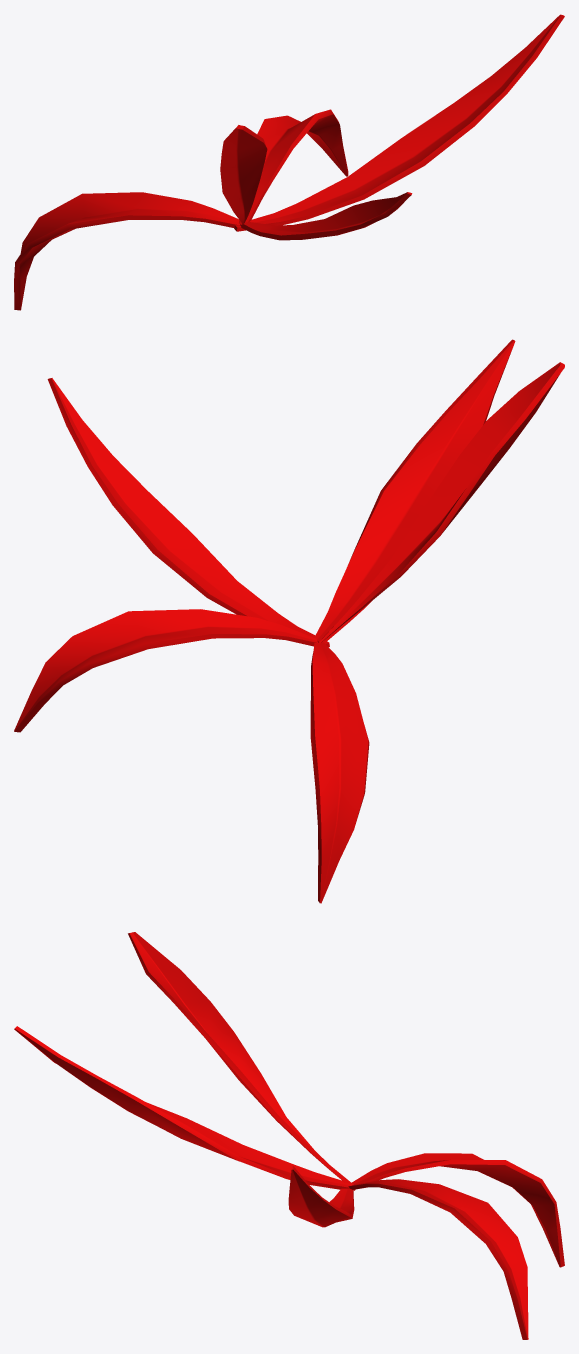
File: Jungle_Bushes_2.fbx
3 views of the same model, one above another, from view 1: azimuth 30°, elevation 25°; view 2: azimuth 150°, elevation 25°; view 3: azimuth 270°, elevation 25° (orthographic). The views are drawn at different scales.
Visible parts, largest first — view 1: MESH_Jungle_Bushes_2; view 2: MESH_Jungle_Bushes_2; view 3: MESH_Jungle_Bushes_2.
Boxes of the visible parts, box(x1,y1,x2,y2) form: MESH_Jungle_Bushes_2: box(14, 14, 564, 310); MESH_Jungle_Bushes_2: box(14, 339, 564, 903); MESH_Jungle_Bushes_2: box(14, 932, 564, 1339).
Size of the model in its own units: 13.72 by 10.94 by 16.42.
